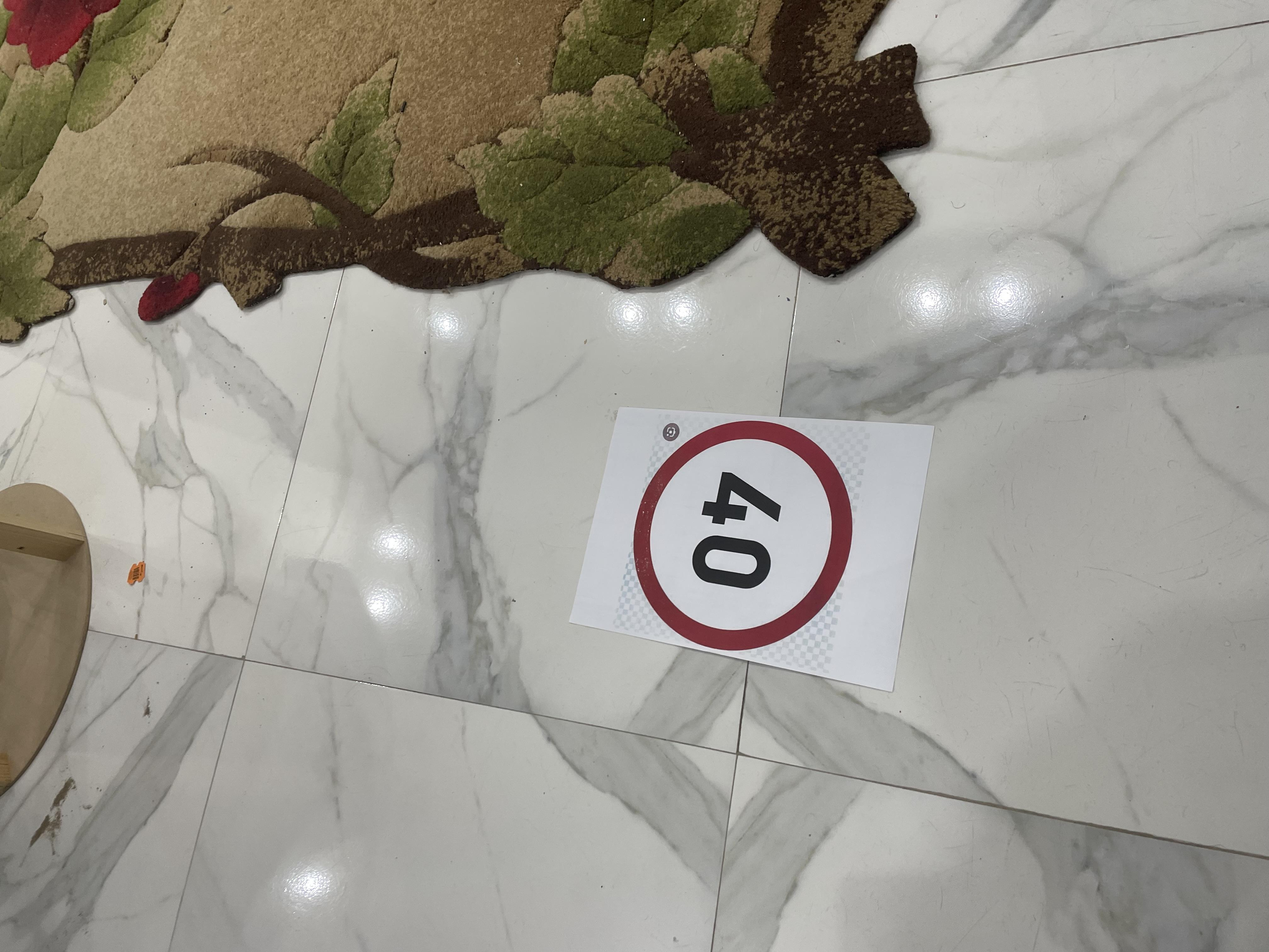40-Speed: (402, 473, 712, 642)
